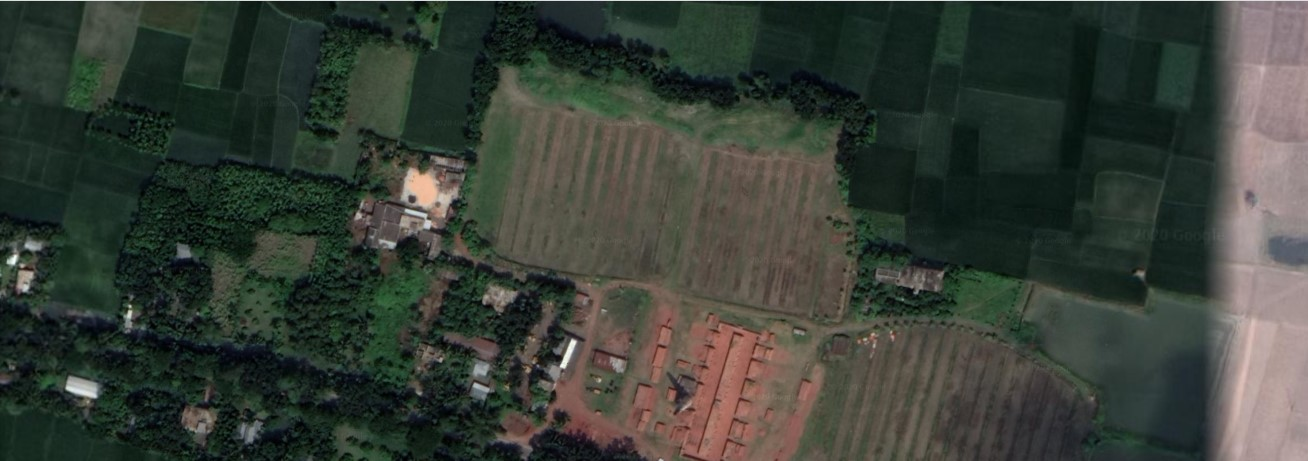kiln: (655, 330, 758, 453)
